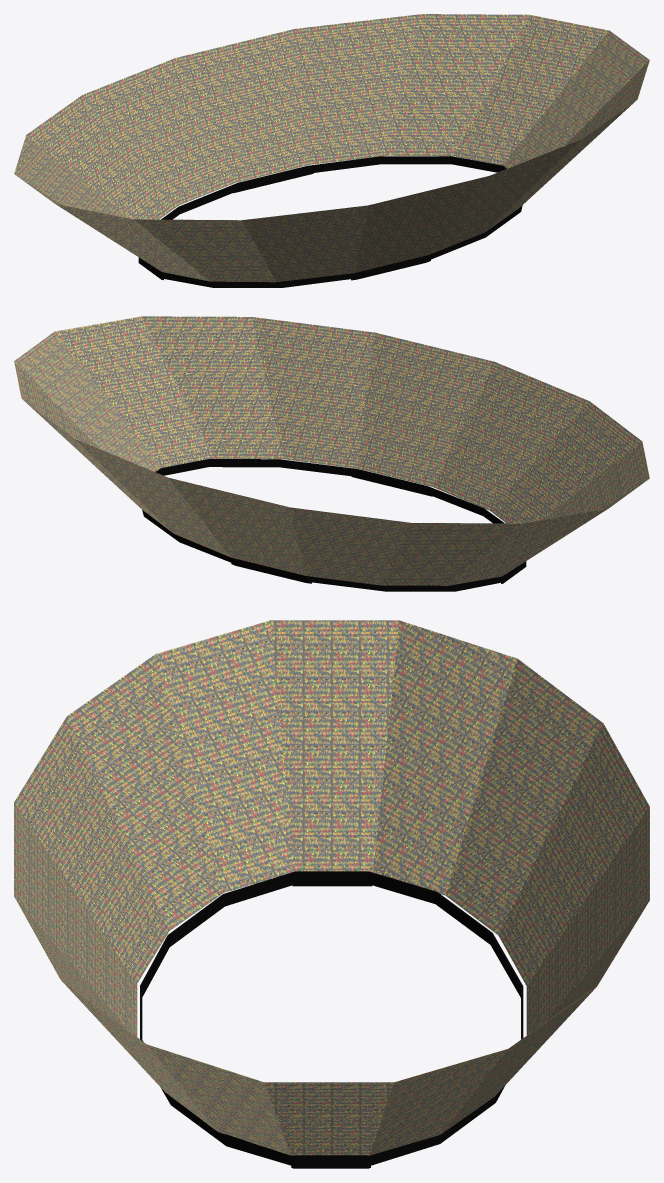
Rendered from Arena.glb.
3 renders of one model, top to bottom at view 1: azimuth 30°, elevation 25°; view 2: azimuth 150°, elevation 25°; view 3: azimuth 270°, elevation 25°, orthographic. The views are drawn at different scales.
Parts seen in each view (by area): view 1: Arena; view 2: Arena; view 3: Arena.
Boxes of the visible parts, <box> form: Arena: <box>14,14,649,287</box>; Arena: <box>14,316,649,591</box>; Arena: <box>14,620,649,1168</box>.
Size of the model in its own units: 29883 by 5294 by 17375.
Materials: 2 (2 with a texture image).
